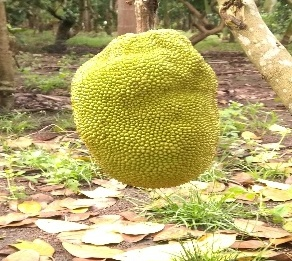Mit: (78, 35, 219, 187)
